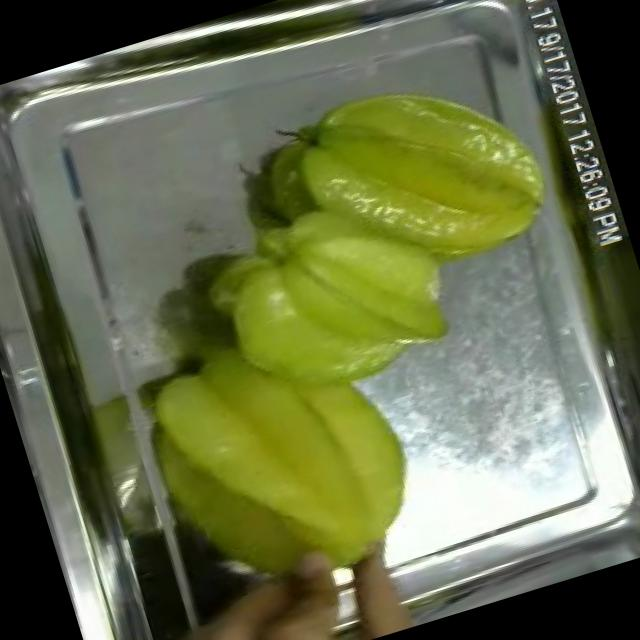fruit: (162, 88, 499, 434), (115, 296, 445, 628), (226, 32, 577, 326)
